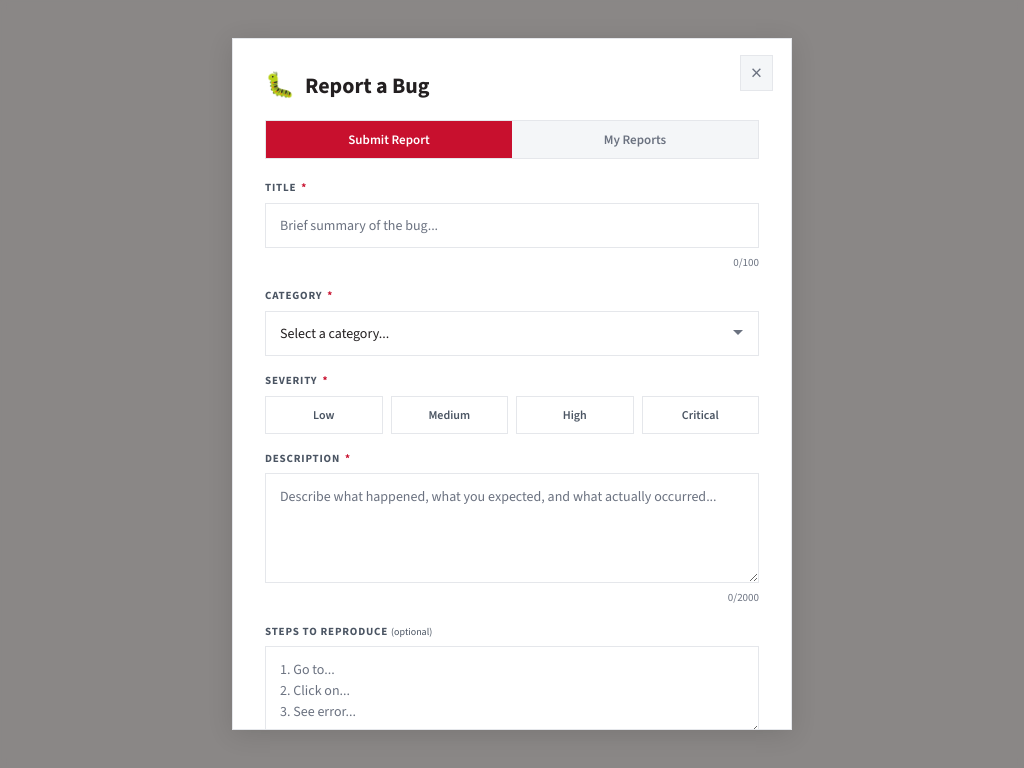
Test: BugReportModal › My Reports tab › should display report cards when reports exist
Click the button "My Reports" at (635, 140), box x1=512 y1=121 x2=758 y2=158
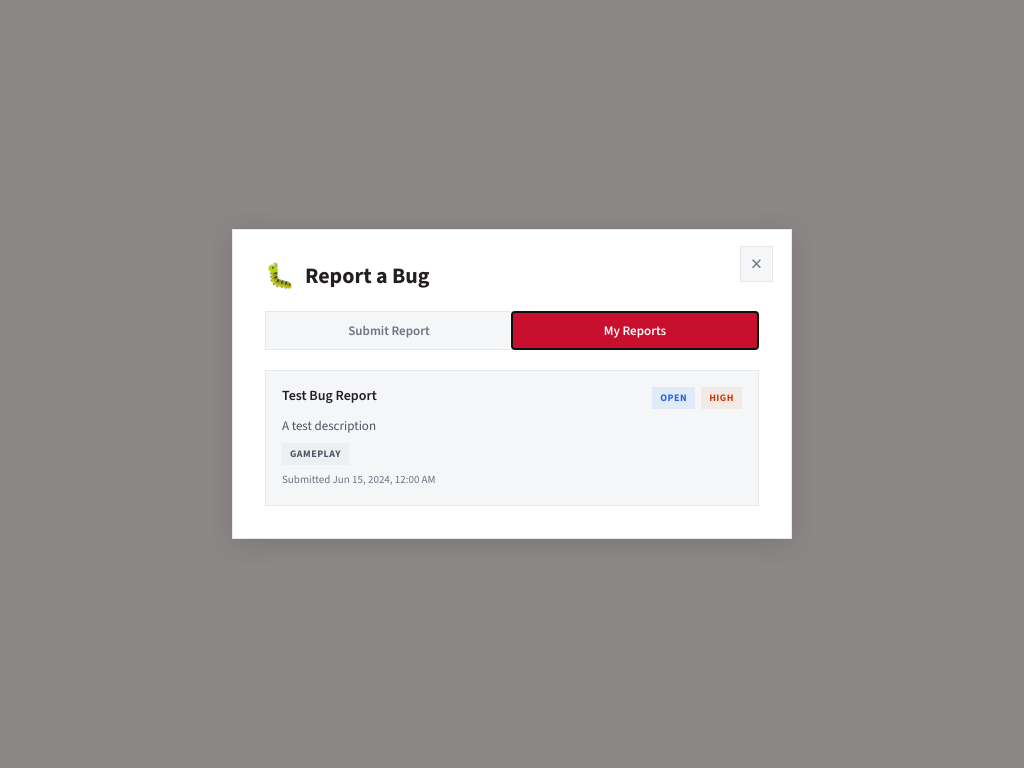
Result: the text "Test Bug Report" is shown at x1=282 y1=386 x2=377 y2=405
